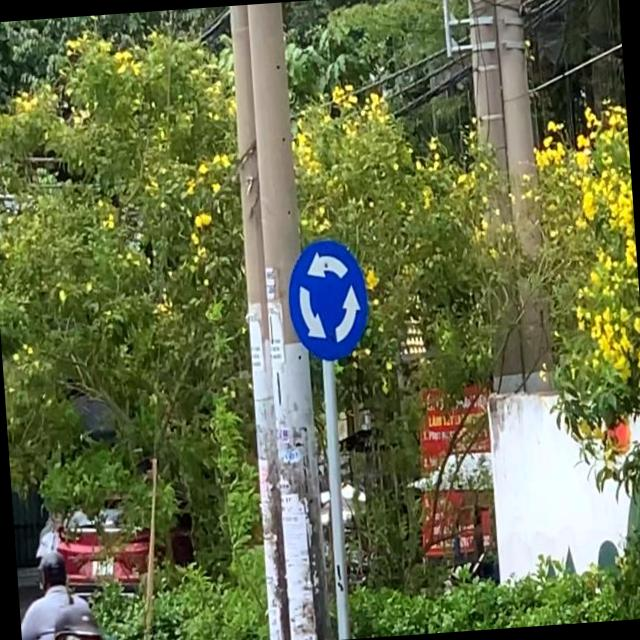R-303: (284, 234, 370, 364)
